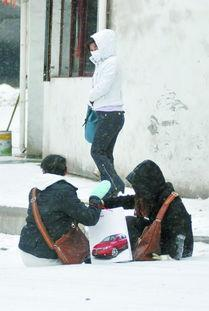Fall-Detected: (114, 154, 202, 262)
